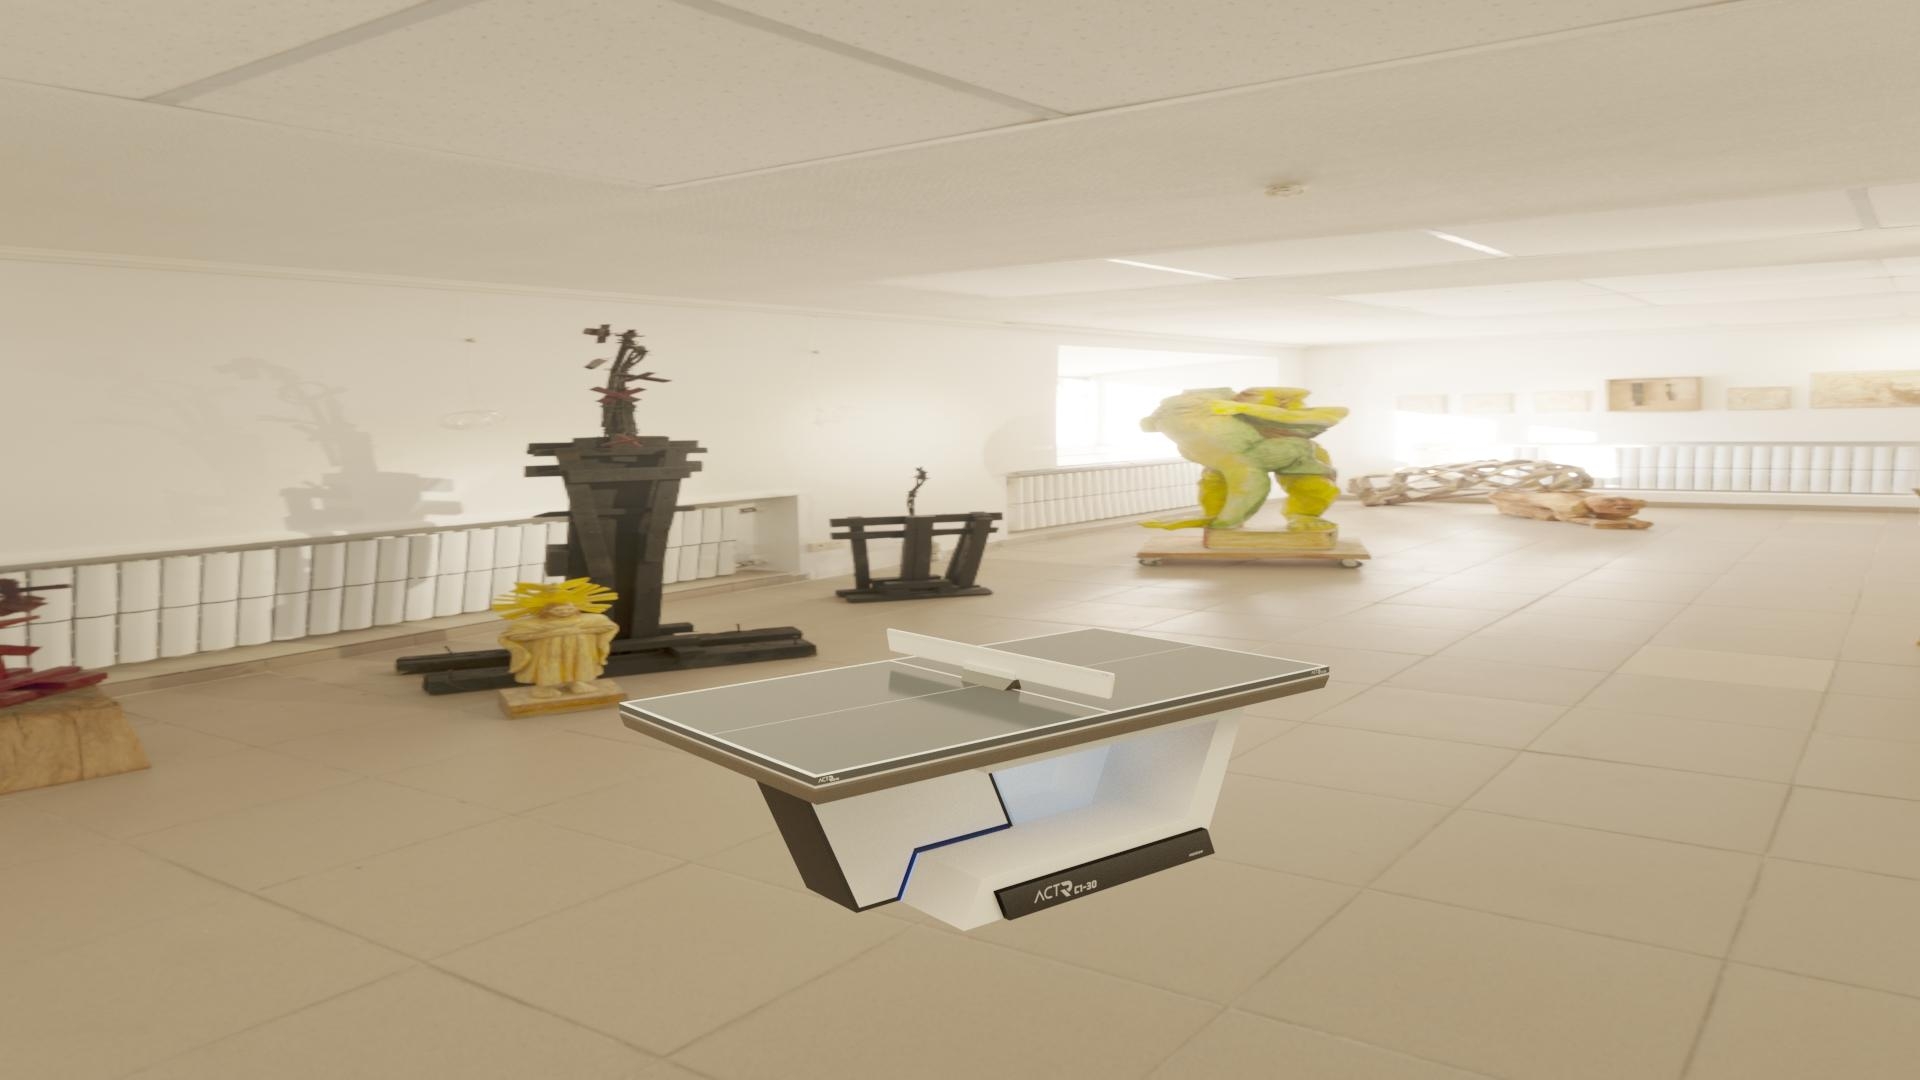table: (625, 628, 1323, 775)
